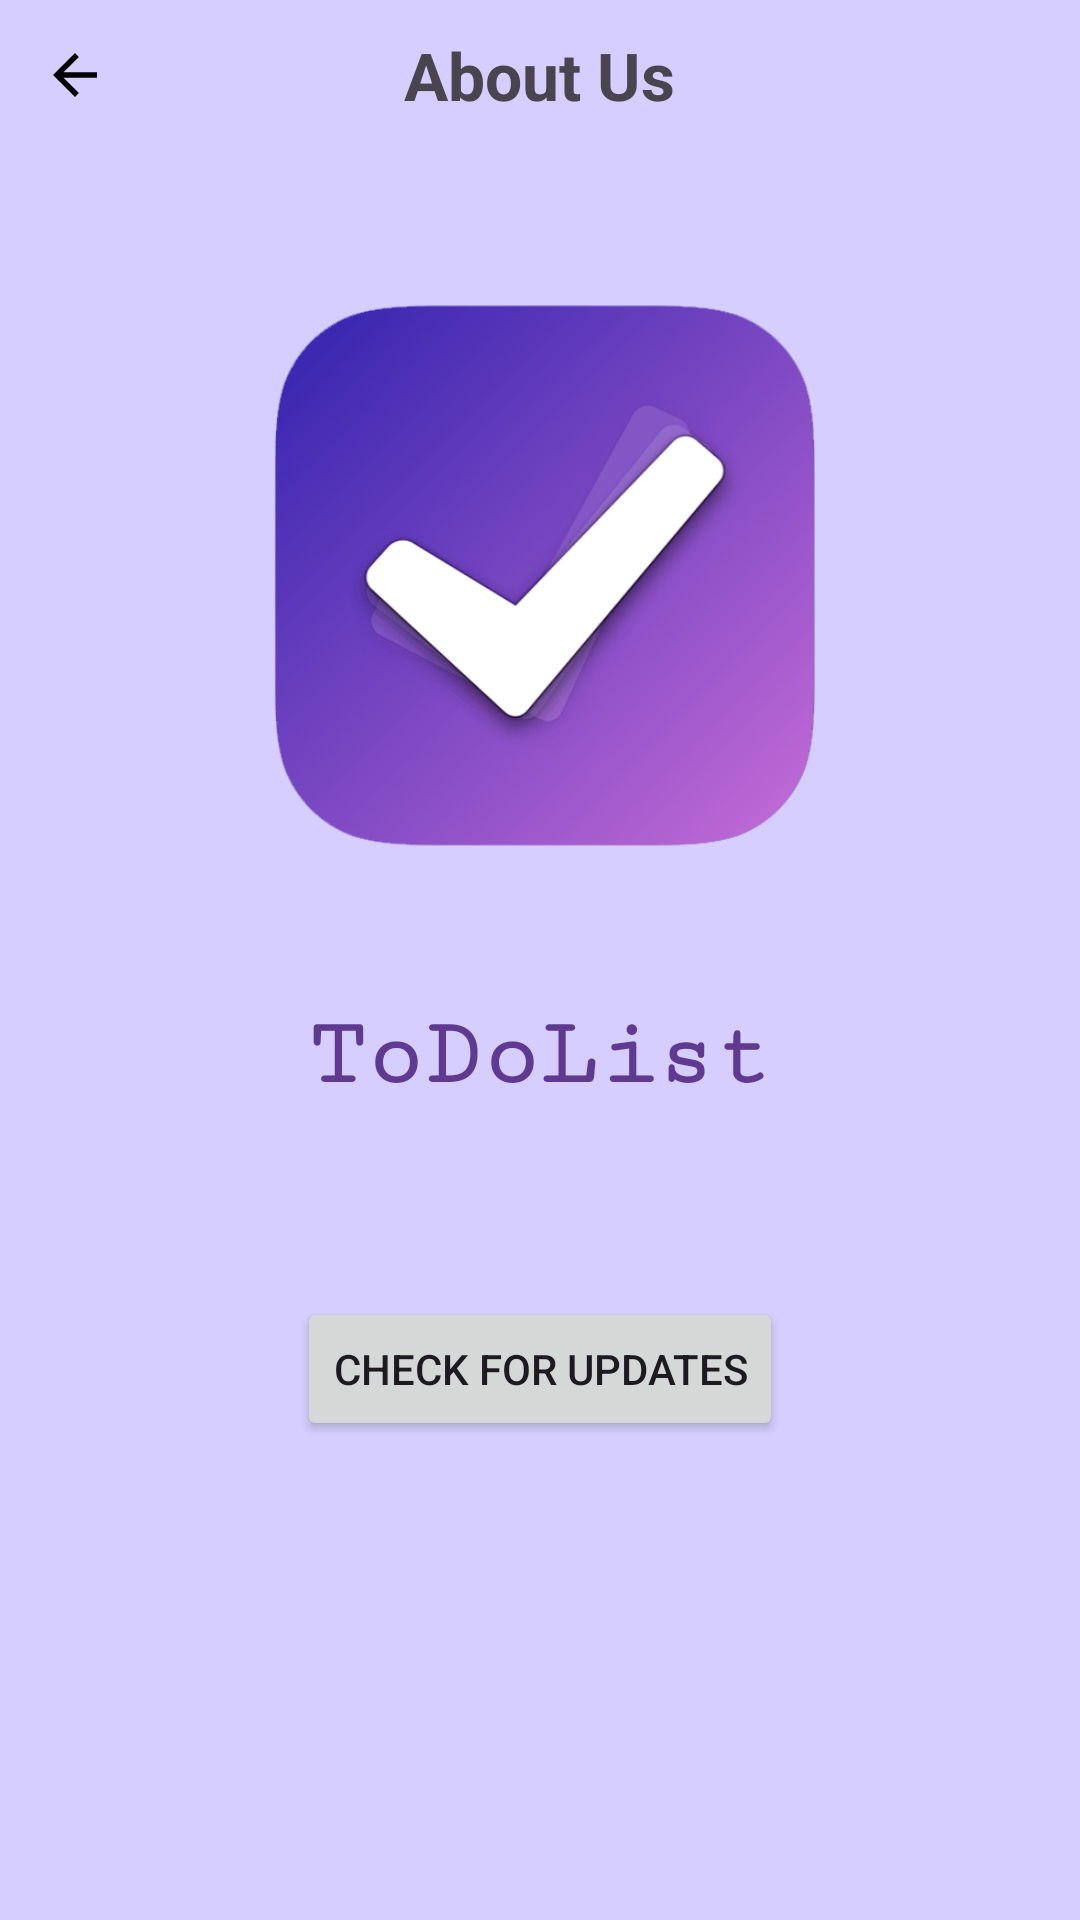

Icons on this 1080w x 1920h Android screen, each with its box as box(x1, y1, x2, y2):
Back: box(53, 53, 97, 97)
